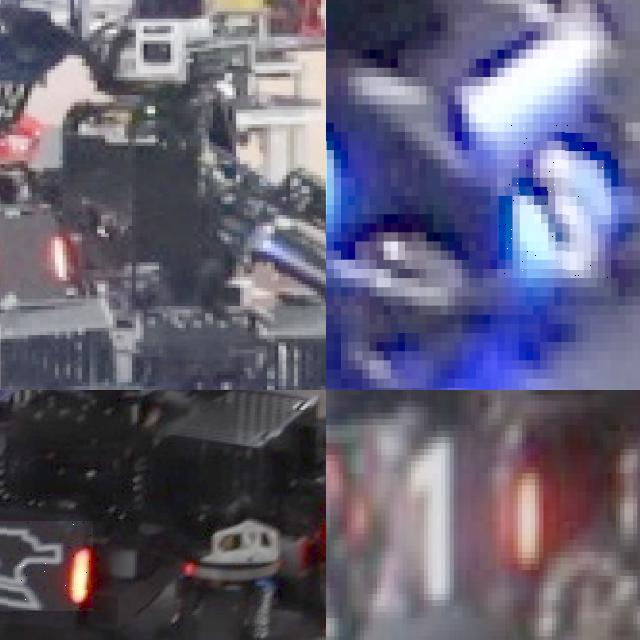B3: (498, 123, 612, 278)
R1: (334, 443, 548, 594)
Rs: (0, 521, 92, 611)
